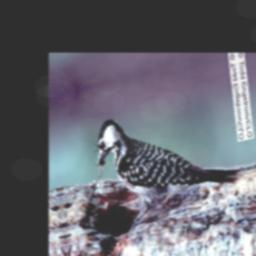Woodpecker: (89, 90, 239, 227)
